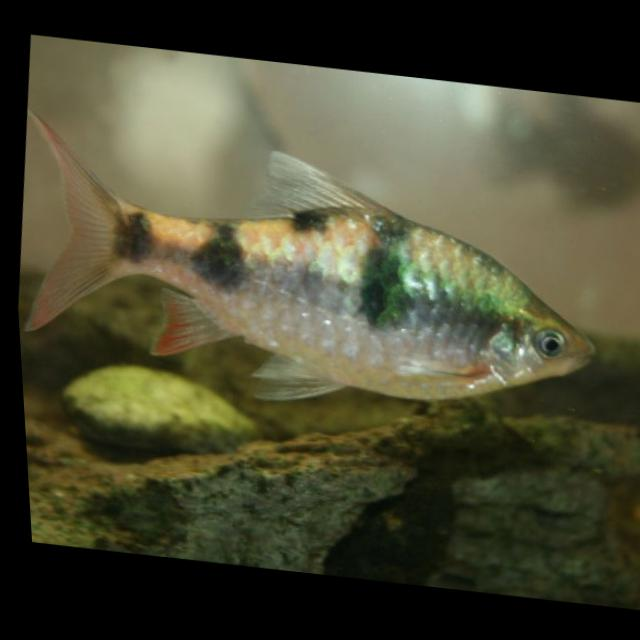fish: (5, 109, 620, 434)
